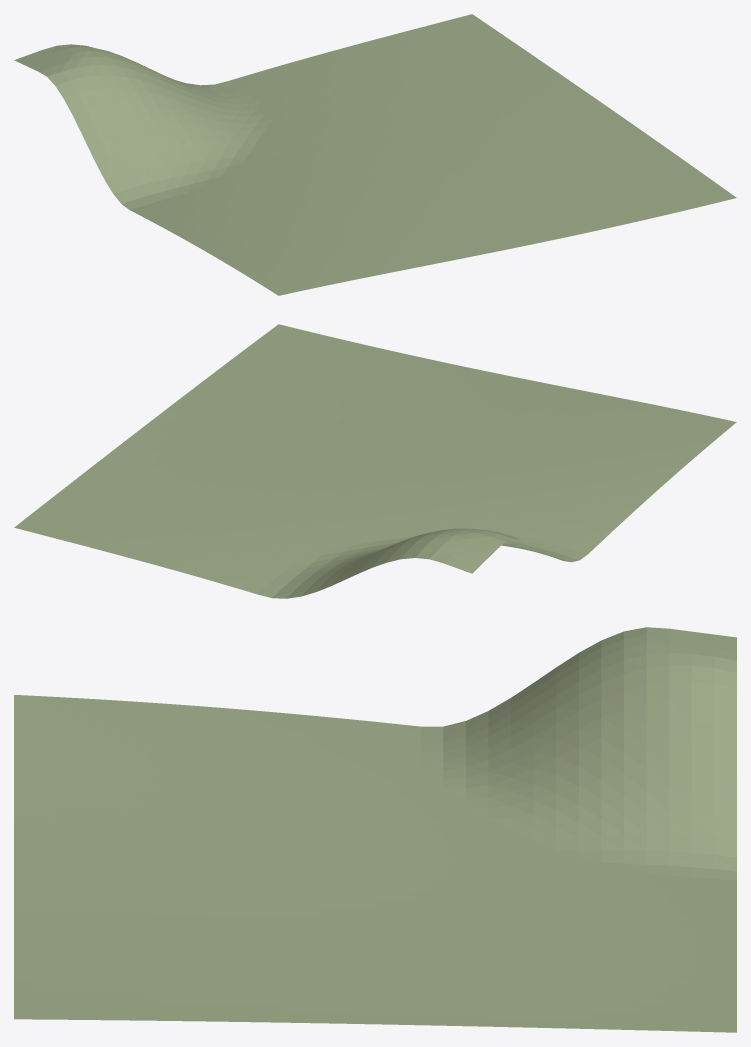
File: expanse-8-25.glb
3 renders of one model, top to bottom at view 1: azimuth 30°, elevation 25°; view 2: azimuth 150°, elevation 25°; view 3: azimuth 270°, elevation 25°, orthographic. The views are drawn at different scales.
Visible parts, largest first — view 1: expanse-8-25; view 2: expanse-8-25; view 3: expanse-8-25.
Boxes of the visible parts, left/top/right/bottom form: expanse-8-25: left=14, top=14, right=736, bottom=295; expanse-8-25: left=14, top=324, right=736, bottom=598; expanse-8-25: left=14, top=627, right=736, bottom=1032.
Size of the model in its own units: 256 by 44.33 by 256.
